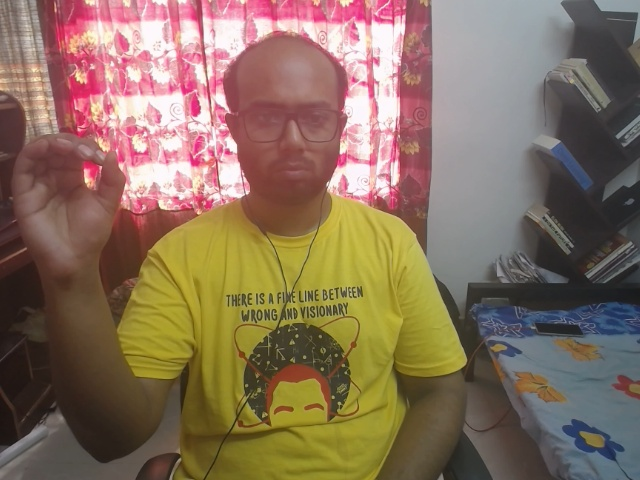zero: (4, 124, 180, 297)
